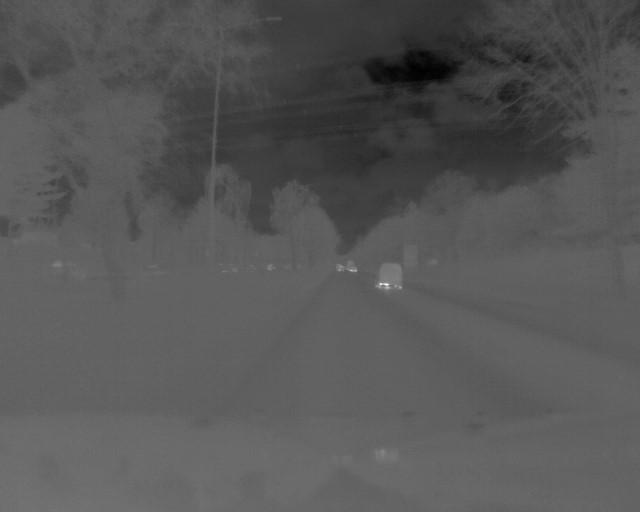car: (373, 260, 405, 291)
